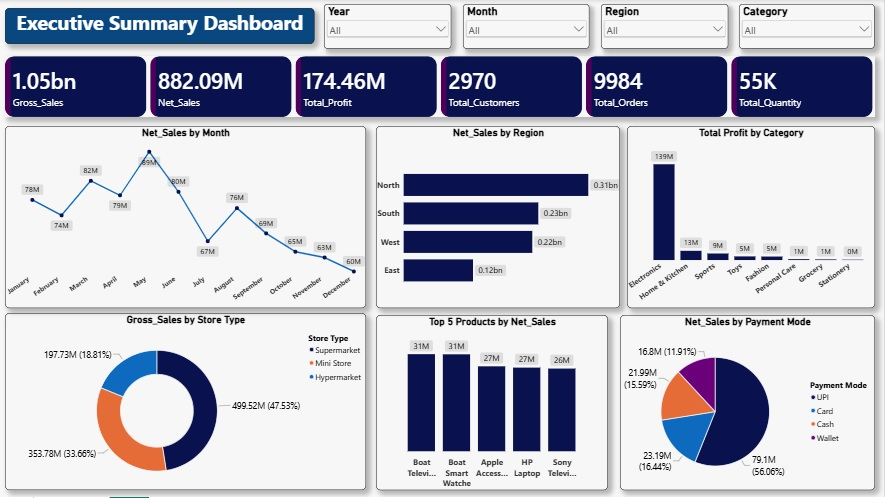

The dashboard page shown, as its layout file describes it:
{"tool":"powerbi","page":{"name":"Page 1","canvas":[1920,1080],"ordinal":0},"visuals":[{"type":"cardVisual","fields":{"Data":["All_Measures.Total_Sales","All_Measures.Total_Net_Sales","All_Measures.Total_Profit","All_Measures.Total_Customers","All_Measures.Total_Orders","All_Measures.Total_Quantity"]},"box":[15.2,123.6,1886.7,133.3],"z":0},{"type":"textbox","box":[15.6,20,671.1,77.8],"z":1000},{"type":"slicer","fields":{"Values":["Date_Table.Date.Variation.Date Hierarchy.Year"]},"box":[707,10.8,276,97.1],"z":2000,"group":"g1"},{"type":"lineChart","title":"Net_Sales by Month","fields":{"Category":["Date_Table.Date.Variation.Date Hierarchy.Month"],"Y":["All_Measures.Total_Net_Sales"]},"box":[15.2,275.4,782.9,394.7],"z":2000},{"type":"group","id":"g1","title":"Group 1","box":[707,10.8,1194.9,97.6],"z":3000},{"type":"slicer","fields":{"Values":["Date_Table.Date.Variation.Date Hierarchy.Month"]},"box":[1008,11.1,273.7,97.3],"z":4000,"group":"g1"},{"type":"clusteredColumnChart","title":"Total Profit by Category","fields":{"Category":["Products.Category"],"Y":["All_Measures.Total_Profit"]},"box":[1364.1,275.4,537.8,394.7],"z":4000},{"type":"slicer","fields":{"Values":["Customers.Region"]},"box":[1306.7,11.1,276,97.3],"z":5000,"group":"g1"},{"type":"clusteredBarChart","title":"Net_Sales by Region","fields":{"Y":["All_Measures.Total_Net_Sales"],"Category":["Customers.Region"]},"box":[819.8,275.4,529.2,394.7],"z":5000},{"type":"slicer","fields":{"Values":["Products.Category"]},"box":[1607.7,11.1,294.3,97.3],"z":6000,"group":"g1"},{"type":"donutChart","fields":{"Category":["Stores.Store Type"],"Y":["All_Measures.Total_Sales"]},"box":[15.2,681,782.9,383.9],"z":6000},{"type":"clusteredColumnChart","title":"Top 5 Products by Net_Sales","fields":{"Y":["All_Measures.Net_Sales"],"Category":["Products.Product Name"]},"box":[819.8,685.3,503.1,379.5],"z":7000},{"type":"pieChart","title":"Net_Sales by Payment Mode","fields":{"Y":["All_Measures.Net_Sales"],"Category":["Sales.Payment Mode"]},"box":[1348.9,685.3,553,379.5],"z":8000}]}

Visuals, with their boxes in screenshot pixels (x1, y1, x2, y2), scaled from the page's 1920x1080 canvas onto the 885x498 screenshot:
cardVisual - All_Measures.Total_Sales x All_Measures.Total_Net_Sales: BBox(7, 57, 877, 118)
textbox: BBox(7, 9, 317, 45)
slicer - Date_Table.Date.Variation.Date Hierarchy.Year: BBox(326, 5, 453, 50)
"Net_Sales by Month" lineChart: BBox(7, 127, 368, 309)
"Group 1" group: BBox(326, 5, 877, 50)
slicer - Date_Table.Date.Variation.Date Hierarchy.Month: BBox(465, 5, 591, 50)
"Total Profit by Category" clusteredColumnChart: BBox(629, 127, 877, 309)
slicer - Customers.Region: BBox(602, 5, 730, 50)
"Net_Sales by Region" clusteredBarChart: BBox(378, 127, 622, 309)
slicer - Products.Category: BBox(741, 5, 877, 50)
donutChart - Stores.Store Type x All_Measures.Total_Sales: BBox(7, 314, 368, 491)
"Top 5 Products by Net_Sales" clusteredColumnChart: BBox(378, 316, 610, 491)
"Net_Sales by Payment Mode" pieChart: BBox(622, 316, 877, 491)
